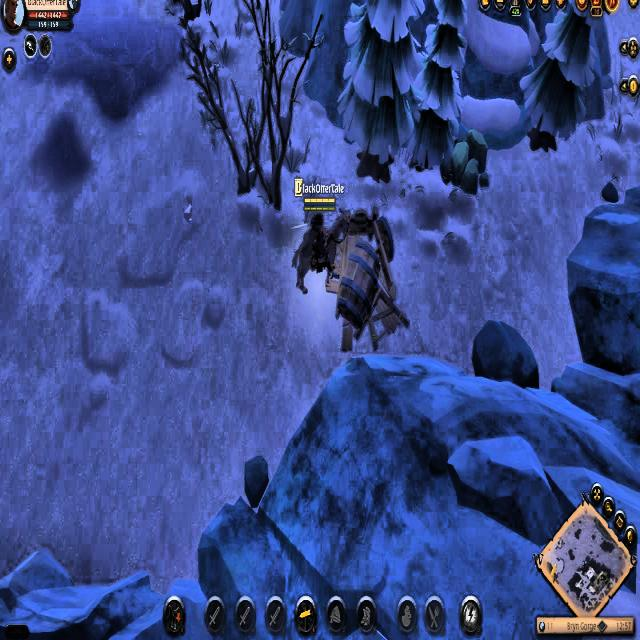sandstone: (439, 121, 495, 197)
